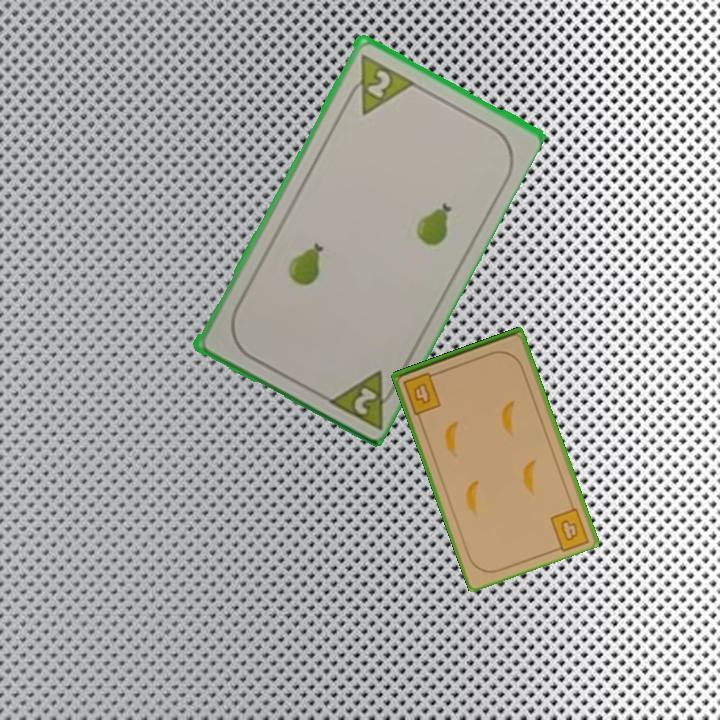2p: (321, 365, 404, 431), (340, 49, 415, 118)
4b: (400, 368, 444, 417), (557, 516, 582, 544)
